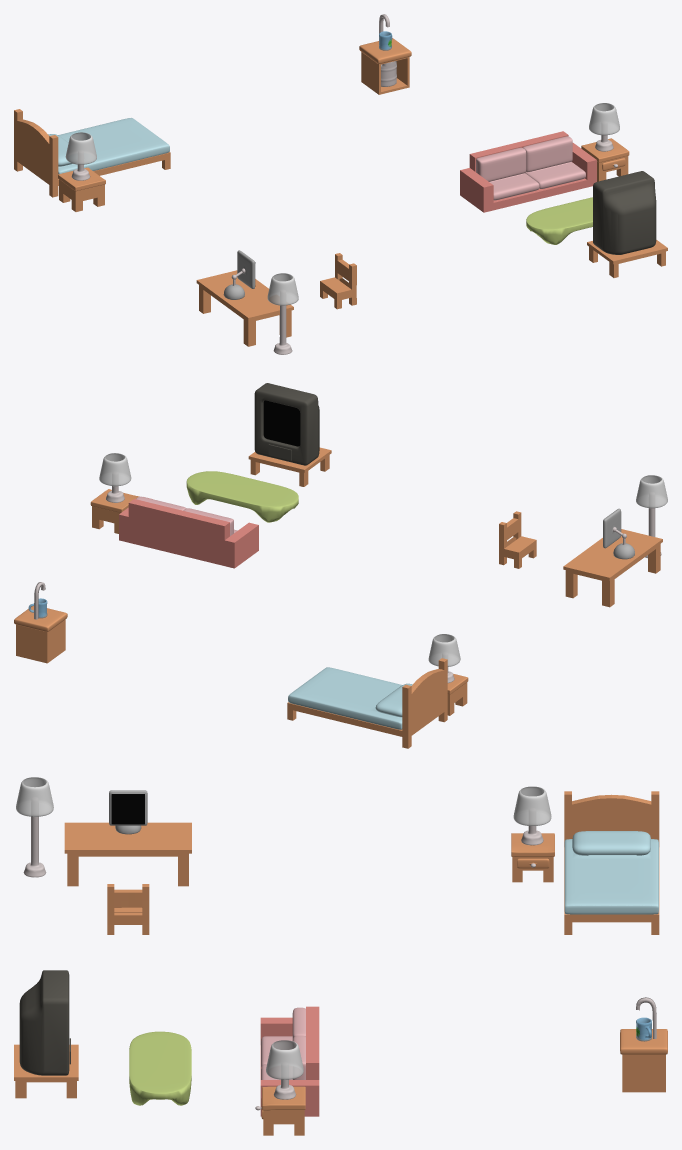
Rendered from davebot_enclosure.glb.
3 renders of one model, top to bottom at view 1: azimuth 30°, elevation 25°; view 2: azimuth 150°, elevation 25°; view 3: azimuth 270°, elevation 25°, orthographic. The views are drawn at different scales.
Parts seen in each view (by area): view 1: couch, bed, tv, desk, coffeetable, kegerator, nightstand.bed, floorlamp, chair, nightstand.couch, lamp.bed, lamp.couch (+3 smaller); view 2: bed, couch, tv, coffeetable, desk, kegerator, chair, floorlamp, lamp.couch, tvtable, nightstand.couch, computer (+2 smaller); view 3: bed, tv, desk, coffeetable, couch, kegerator, floorlamp, chair, nightstand.couch, nightstand.bed, lamp.bed, lamp.couch (+3 smaller).
Boxes of the visible parts, box(x1,y1,x2,y2) form: couch: box(460, 131, 596, 212); bed: box(14, 109, 170, 197); tv: box(593, 171, 656, 254); desk: box(196, 270, 293, 346); coffeetable: box(526, 197, 592, 244); kegerator: box(359, 38, 411, 94); nightstand.bed: box(58, 167, 105, 211); floorlamp: box(267, 273, 298, 354); chair: box(320, 253, 356, 309); nightstand.couch: box(581, 138, 629, 181); lamp.bed: box(65, 132, 96, 180); lamp.couch: box(589, 103, 619, 151); bed: box(287, 658, 447, 748); couch: box(119, 496, 258, 568); tv: box(254, 383, 319, 465); coffeetable: box(186, 471, 298, 522); desk: box(563, 529, 662, 607); kegerator: box(14, 606, 67, 663); chair: box(499, 511, 536, 568); floorlamp: box(636, 475, 667, 558); lamp.couch: box(99, 453, 131, 502); tvtable: box(248, 447, 331, 486); nightstand.couch: box(90, 489, 139, 533); computer: box(603, 508, 634, 559); bed: box(564, 791, 659, 934); tv: box(19, 970, 70, 1075); desk: box(64, 822, 191, 886); coffeetable: box(129, 1031, 191, 1105); couch: box(260, 1006, 319, 1116); kegerator: box(620, 1029, 667, 1092); floorlamp: box(16, 777, 53, 877); chair: box(107, 884, 149, 934); nightstand.couch: box(255, 1086, 305, 1135); nightstand.bed: box(511, 833, 554, 882); lamp.bed: box(513, 786, 551, 845); lamp.couch: box(266, 1040, 303, 1099).
Size of the model in its own units: 19.57 by 3.25 by 19.53.
12 materials, 1 textured.
